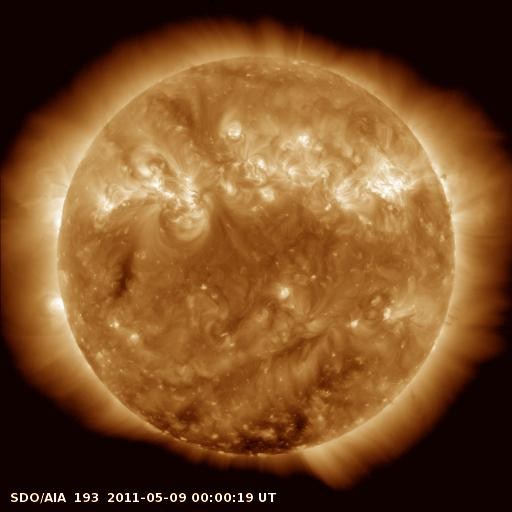coronal_hole: (222, 401, 313, 457)
